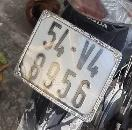4: (83, 39, 112, 82), (47, 26, 79, 61)
5: (50, 62, 82, 102), (36, 15, 67, 54)
6: (66, 74, 97, 114)
8: (24, 50, 50, 83)
9: (37, 56, 66, 93)
V: (69, 34, 101, 74)
